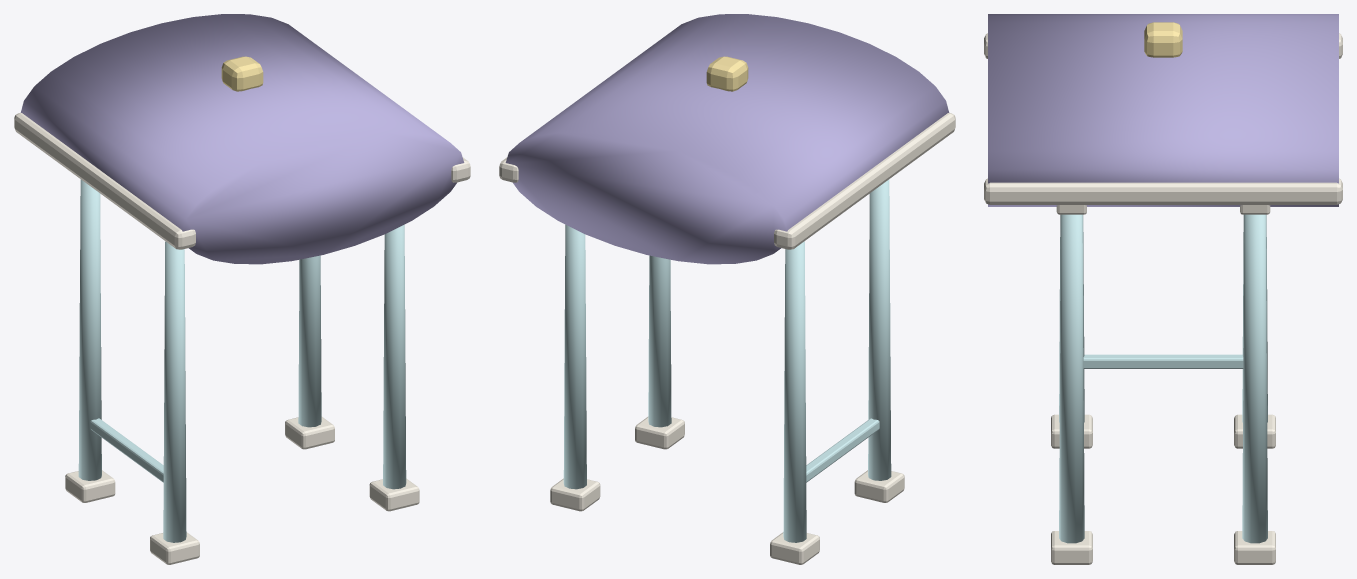
The model's file is station_shelter.glb.
3 views of the same model, side by side, from view 1: azimuth 30°, elevation 25°; view 2: azimuth 150°, elevation 25°; view 3: azimuth 270°, elevation 25° (orthographic). The views are drawn at different scales.
Parts seen in each view (by area): view 1: roof, post1, post0, post3, eave0, post2, rear_rail, finial, foot0, foot3, foot2, foot1; view 2: roof, post0, post1, post2, eave0, post3, rear_rail, finial, foot1, foot2, foot3, foot0; view 3: roof, eave1, post2, post3, rear_rail, finial, foot2, foot3, foot0, foot1, post0, post1.
Part boxes in pixels (box(x1,y1,x2,y2)): roof: box(20, 14, 464, 264); post1: box(163, 241, 186, 542); post0: box(78, 179, 101, 480); post3: box(383, 224, 406, 489); eave0: box(14, 113, 195, 249); post2: box(298, 255, 321, 427); rear_rail: box(90, 418, 163, 482); finial: box(221, 56, 263, 91); foot0: box(65, 470, 115, 502); foot3: box(369, 478, 419, 511); foot2: box(285, 416, 334, 449); foot1: box(150, 532, 199, 564); roof: box(505, 14, 949, 264); post0: box(783, 241, 806, 542); post1: box(868, 179, 891, 480); post2: box(563, 224, 586, 489); eave0: box(774, 113, 955, 249); post3: box(648, 255, 671, 427); rear_rail: box(806, 418, 879, 482); finial: box(706, 56, 748, 91); foot1: box(854, 470, 904, 502); foot2: box(550, 478, 600, 511); foot3: box(635, 416, 684, 449); foot0: box(770, 532, 819, 564); roof: box(988, 14, 1338, 206); eave1: box(984, 178, 1342, 204); post2: box(1242, 214, 1267, 543); post3: box(1059, 214, 1084, 543); rear_rail: box(1083, 354, 1243, 368); finial: box(1144, 22, 1182, 57); foot2: box(1234, 531, 1275, 564); foot3: box(1051, 531, 1092, 564); foot0: box(1234, 414, 1275, 448); foot1: box(1051, 414, 1092, 448); post0: box(1242, 214, 1267, 422); post1: box(1059, 214, 1084, 422).
Bounding box in the file's own units: 4.84 × 6.83 × 4.7.
